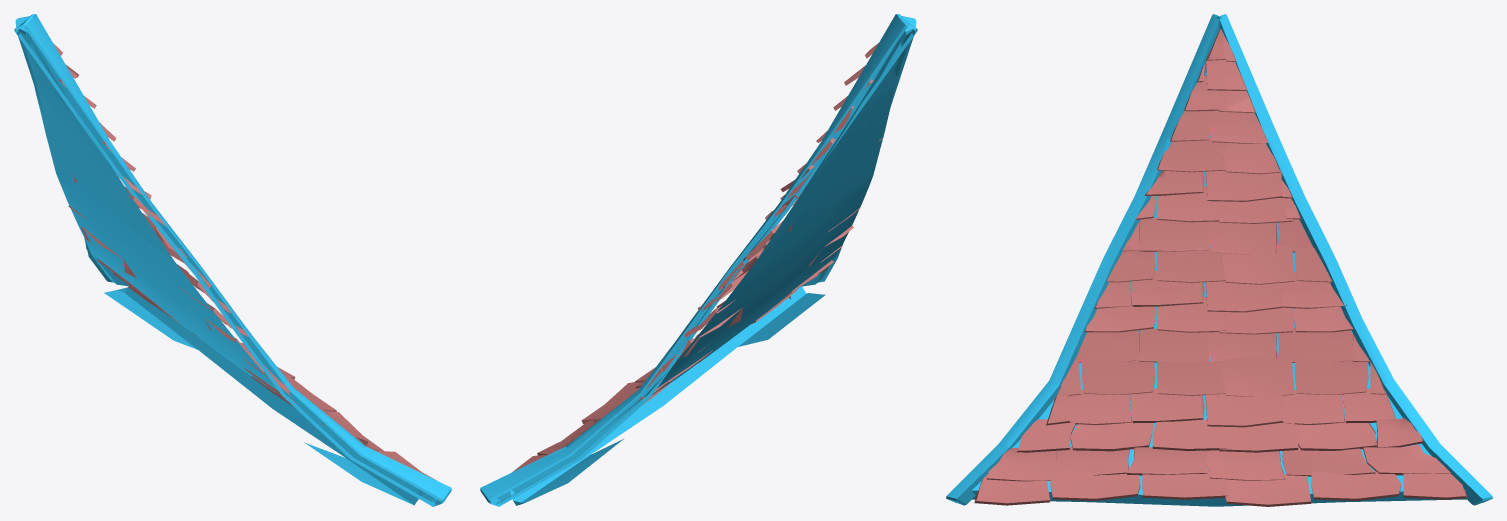
Rendered from Roof_01_half_triangle_02.fbx.
3 views of the same model, side by side, from view 1: azimuth 30°, elevation 25°; view 2: azimuth 150°, elevation 25°; view 3: azimuth 270°, elevation 25° (orthographic). The views are drawn at different scales.
Parts seen in each view (by area): view 1: Roof_01_half_triangle_02_LOD0; view 2: Roof_01_half_triangle_02_LOD0; view 3: Roof_01_half_triangle_02_LOD0.
Boxes of the visible parts, x1,y1,x2,y2 form: Roof_01_half_triangle_02_LOD0: (14, 14, 451, 506); Roof_01_half_triangle_02_LOD0: (480, 14, 917, 506); Roof_01_half_triangle_02_LOD0: (946, 14, 1492, 506).
Size of what is drawn, in the model's own units: 522 by 790 by 1003.
